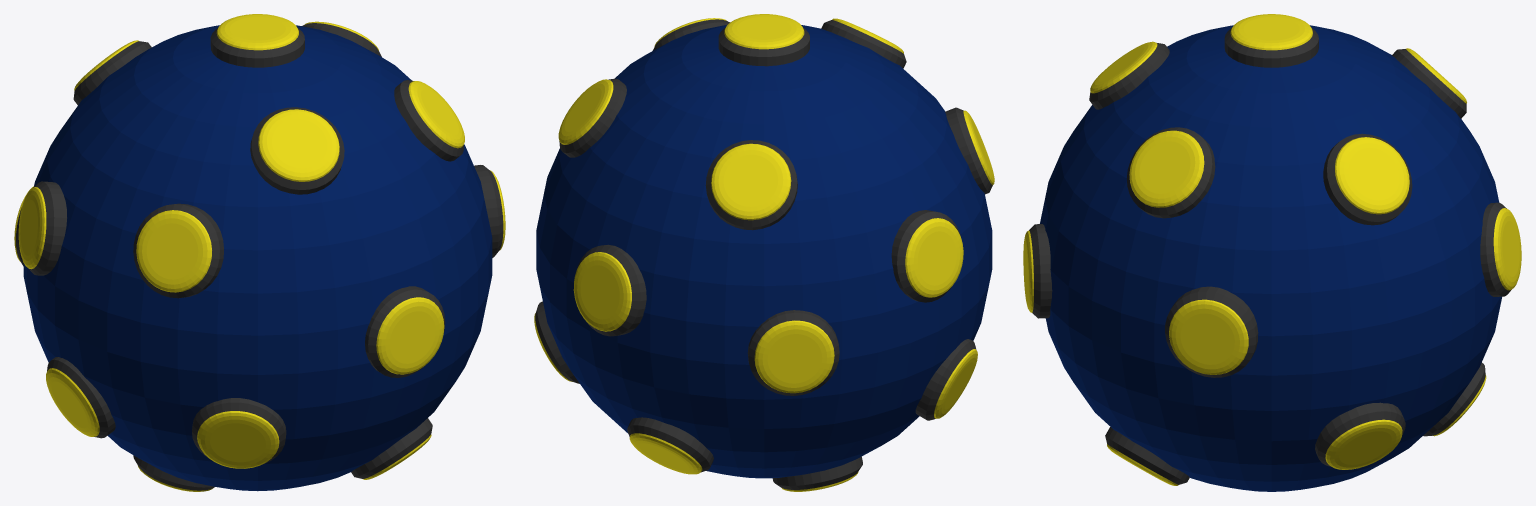
The model's file is bomb.fbx.
The picture shows the model from 3 angles, left to right: view 1: azimuth 30°, elevation 25°; view 2: azimuth 150°, elevation 25°; view 3: azimuth 270°, elevation 25°; orthographic projection. The views are drawn at different scales.
Parts seen in each view (by area): view 1: Sphere, Cylinder.006, Cylinder.008, Cylinder.005, Cylinder.009, Cylinder, Cylinder.007, Cylinder.002, Cylinder.010, Cylinder.015, Cylinder.004, Cylinder.014 (+2 smaller); view 2: Sphere, Cylinder.004, Cylinder.011, Cylinder.007, Cylinder.012, Cylinder, Cylinder.003, Cylinder.017, Cylinder.010, Cylinder.006, Cylinder.016, Cylinder.008 (+2 smaller); view 3: Sphere, Cylinder.014, Cylinder.003, Cylinder.002, Cylinder.013, Cylinder, Cylinder.012, Cylinder.008, Cylinder.005, Cylinder.015, Cylinder.004, Cylinder.017.
Boxes of the visible parts, bbox=[...] form: Sphere: bbox=[23, 25, 492, 491]; Cylinder.006: bbox=[133, 203, 223, 298]; Cylinder.008: bbox=[250, 107, 344, 194]; Cylinder.005: bbox=[365, 286, 445, 377]; Cylinder.009: bbox=[192, 398, 286, 468]; Cylinder: bbox=[210, 14, 304, 67]; Cylinder.007: bbox=[18, 181, 66, 275]; Cylinder.002: bbox=[394, 80, 464, 161]; Cylinder.010: bbox=[46, 357, 115, 438]; Cylinder.015: bbox=[351, 418, 432, 479]; Cylinder.004: bbox=[73, 40, 151, 104]; Cylinder.014: bbox=[474, 165, 505, 257]; Sphere: bbox=[536, 25, 992, 478]; Cylinder.004: bbox=[705, 140, 797, 230]; Cylinder.011: bbox=[747, 310, 839, 395]; Cylinder.007: bbox=[891, 210, 963, 302]; Cylinder.012: bbox=[573, 244, 646, 336]; Cylinder: bbox=[718, 14, 809, 66]; Cylinder.003: bbox=[558, 78, 626, 157]; Cylinder.017: bbox=[627, 417, 713, 474]; Cylinder.010: bbox=[915, 339, 977, 420]; Cylinder.006: bbox=[945, 107, 994, 194]; Cylinder.016: bbox=[772, 456, 862, 491]; Cylinder.008: bbox=[821, 18, 906, 68]; Sphere: bbox=[1040, 25, 1501, 491]; Cylinder.014: bbox=[1165, 286, 1258, 377]; Cylinder.003: bbox=[1323, 133, 1412, 225]; Cylinder.002: bbox=[1126, 127, 1215, 218]; Cylinder.013: bbox=[1315, 402, 1405, 469]; Cylinder: bbox=[1224, 14, 1318, 67]; Cylinder.012: bbox=[1480, 202, 1521, 296]; Cylinder.008: bbox=[1089, 41, 1169, 109]; Cylinder.005: bbox=[1023, 224, 1052, 318]; Cylinder.015: bbox=[1105, 427, 1189, 485]; Cylinder.004: bbox=[1392, 48, 1466, 118]; Cylinder.017: bbox=[1423, 362, 1486, 436].
Bounding box in the file's own units: 209 × 210 × 211.
